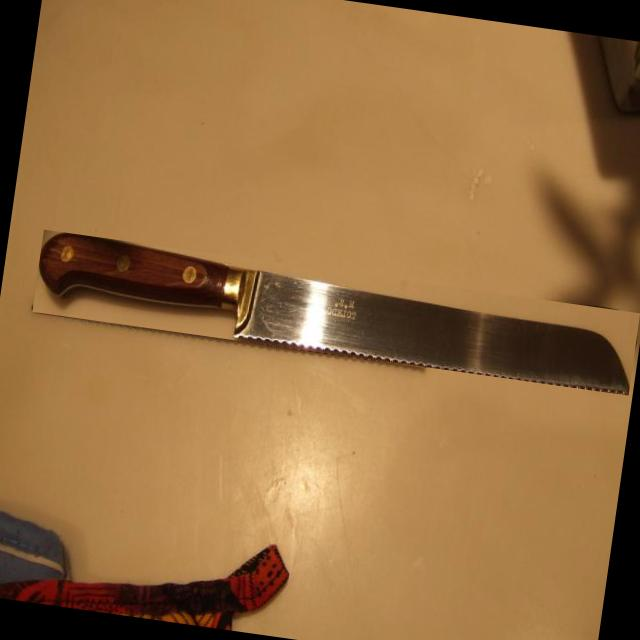Knife: (40, 234, 629, 395), (34, 243, 428, 365)
